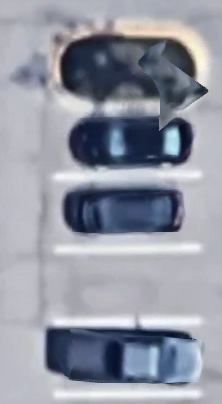Occupied: (49, 322, 204, 396), (50, 175, 204, 249), (52, 111, 203, 175)
Vacant: (50, 249, 204, 321)
